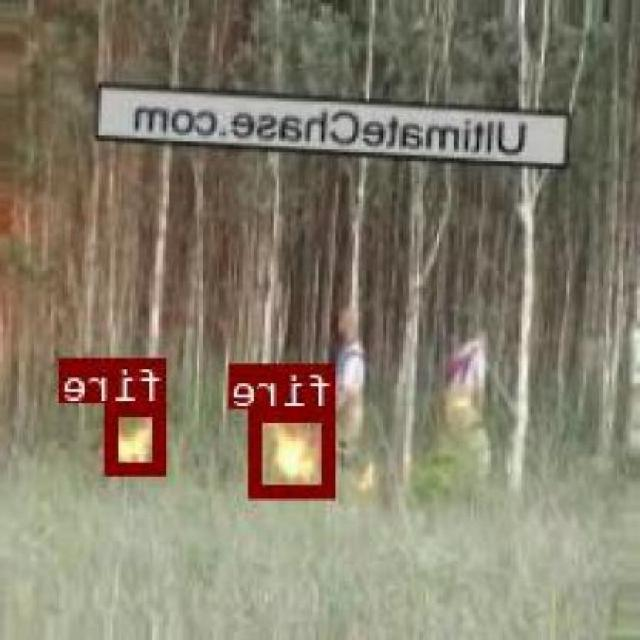Fire: (252, 407, 338, 495), (108, 402, 170, 473)
